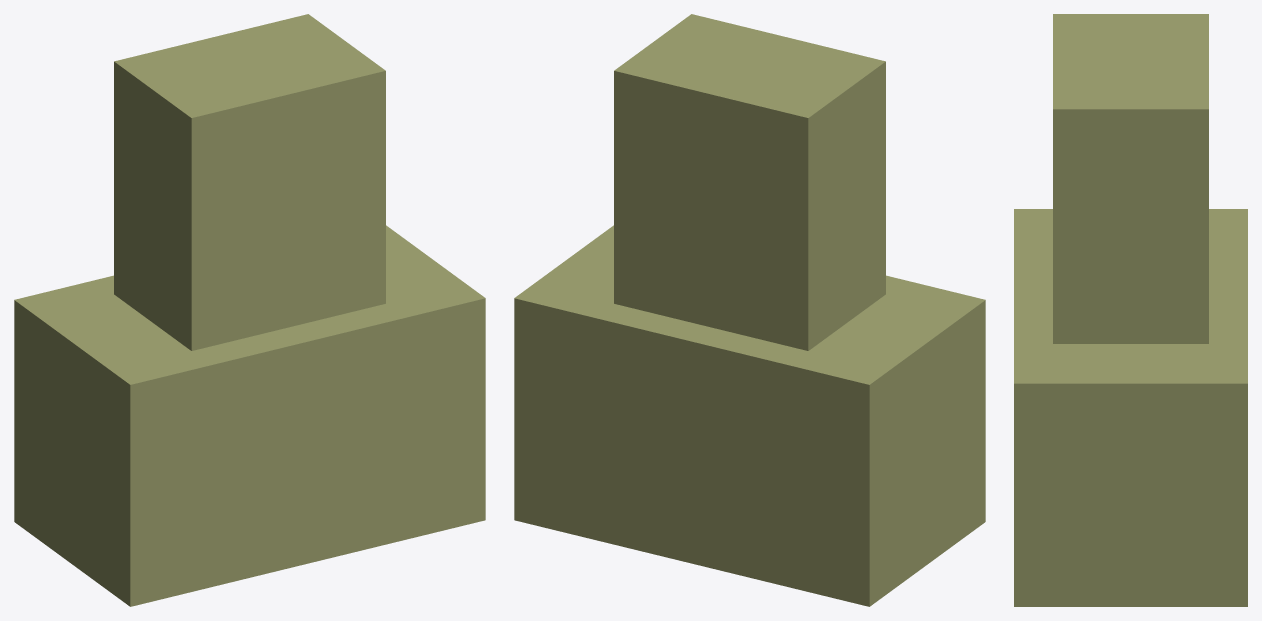
File: Figure (3.7, -6.29943, 1.2).glb
3 views of the same model, side by side, from view 1: azimuth 30°, elevation 25°; view 2: azimuth 150°, elevation 25°; view 3: azimuth 270°, elevation 25° (orthographic).
Parts seen in each view (by area): view 1: Plane.003; view 2: Plane.003; view 3: Plane.003.
Part boxes in pixels (x1,y1,x2,y2): Plane.003: (14, 14, 485, 606); Plane.003: (514, 14, 985, 606); Plane.003: (1014, 14, 1247, 606).
Bounding box in the file's own units: 0.478 × 0.5847 × 0.2708.
